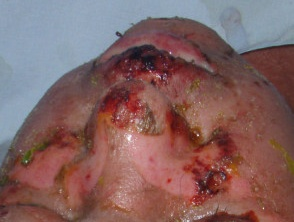SJS-TEN: (77, 14, 213, 150), (151, 82, 263, 213), (5, 99, 107, 209)
